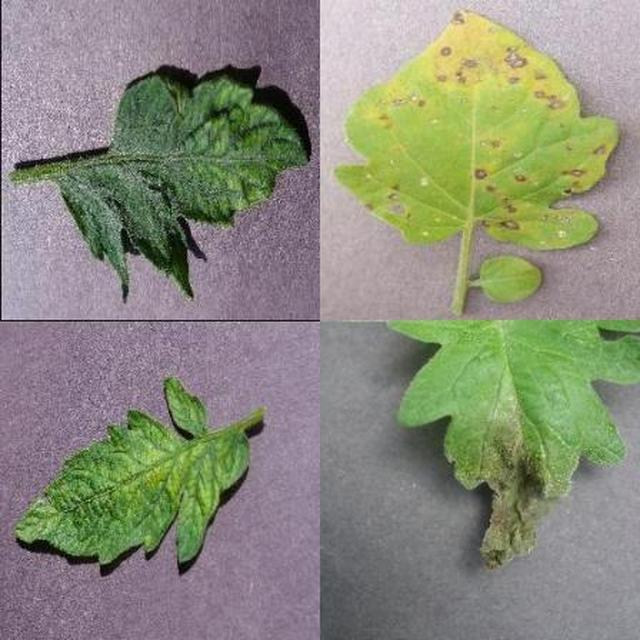Mosaic Virus Leaf: (184, 186, 640, 640)
